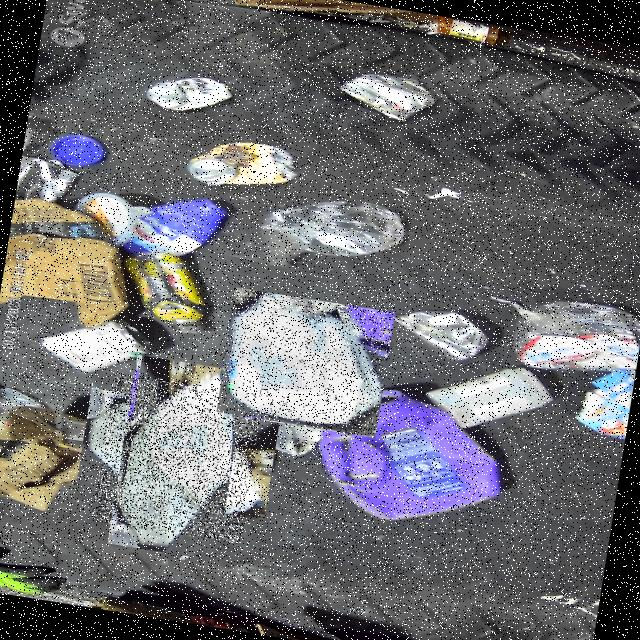milk-jug: (91, 371, 264, 544), (216, 286, 396, 437)
